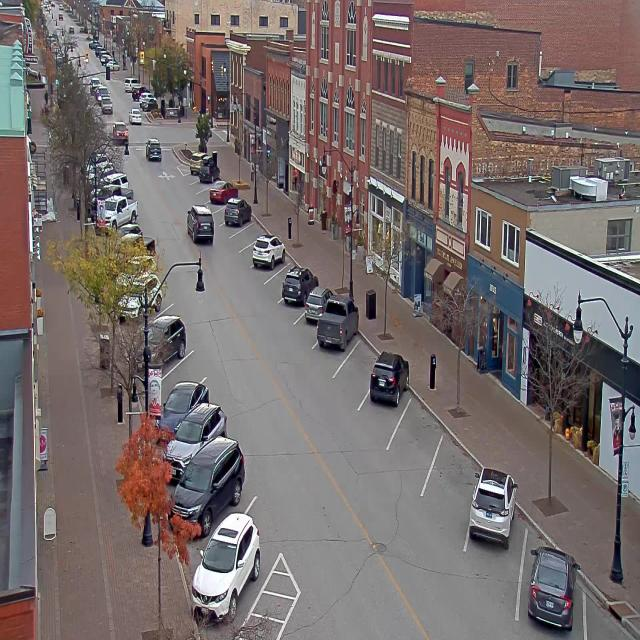available: (424, 438, 484, 514), (394, 388, 446, 468), (579, 586, 639, 639), (159, 341, 212, 388), (342, 333, 378, 390), (231, 220, 262, 248), (262, 269, 285, 302), (235, 244, 257, 268), (209, 205, 227, 227), (195, 187, 210, 204)
occupied: (186, 503, 264, 608), (169, 435, 245, 538), (526, 544, 580, 630), (468, 466, 518, 548), (163, 396, 233, 454), (156, 379, 209, 442), (368, 349, 409, 406), (316, 296, 358, 351), (142, 314, 186, 364), (282, 264, 318, 305), (252, 232, 285, 269), (303, 286, 328, 326), (224, 197, 251, 227), (208, 180, 236, 206), (198, 159, 220, 184), (188, 154, 204, 174)
